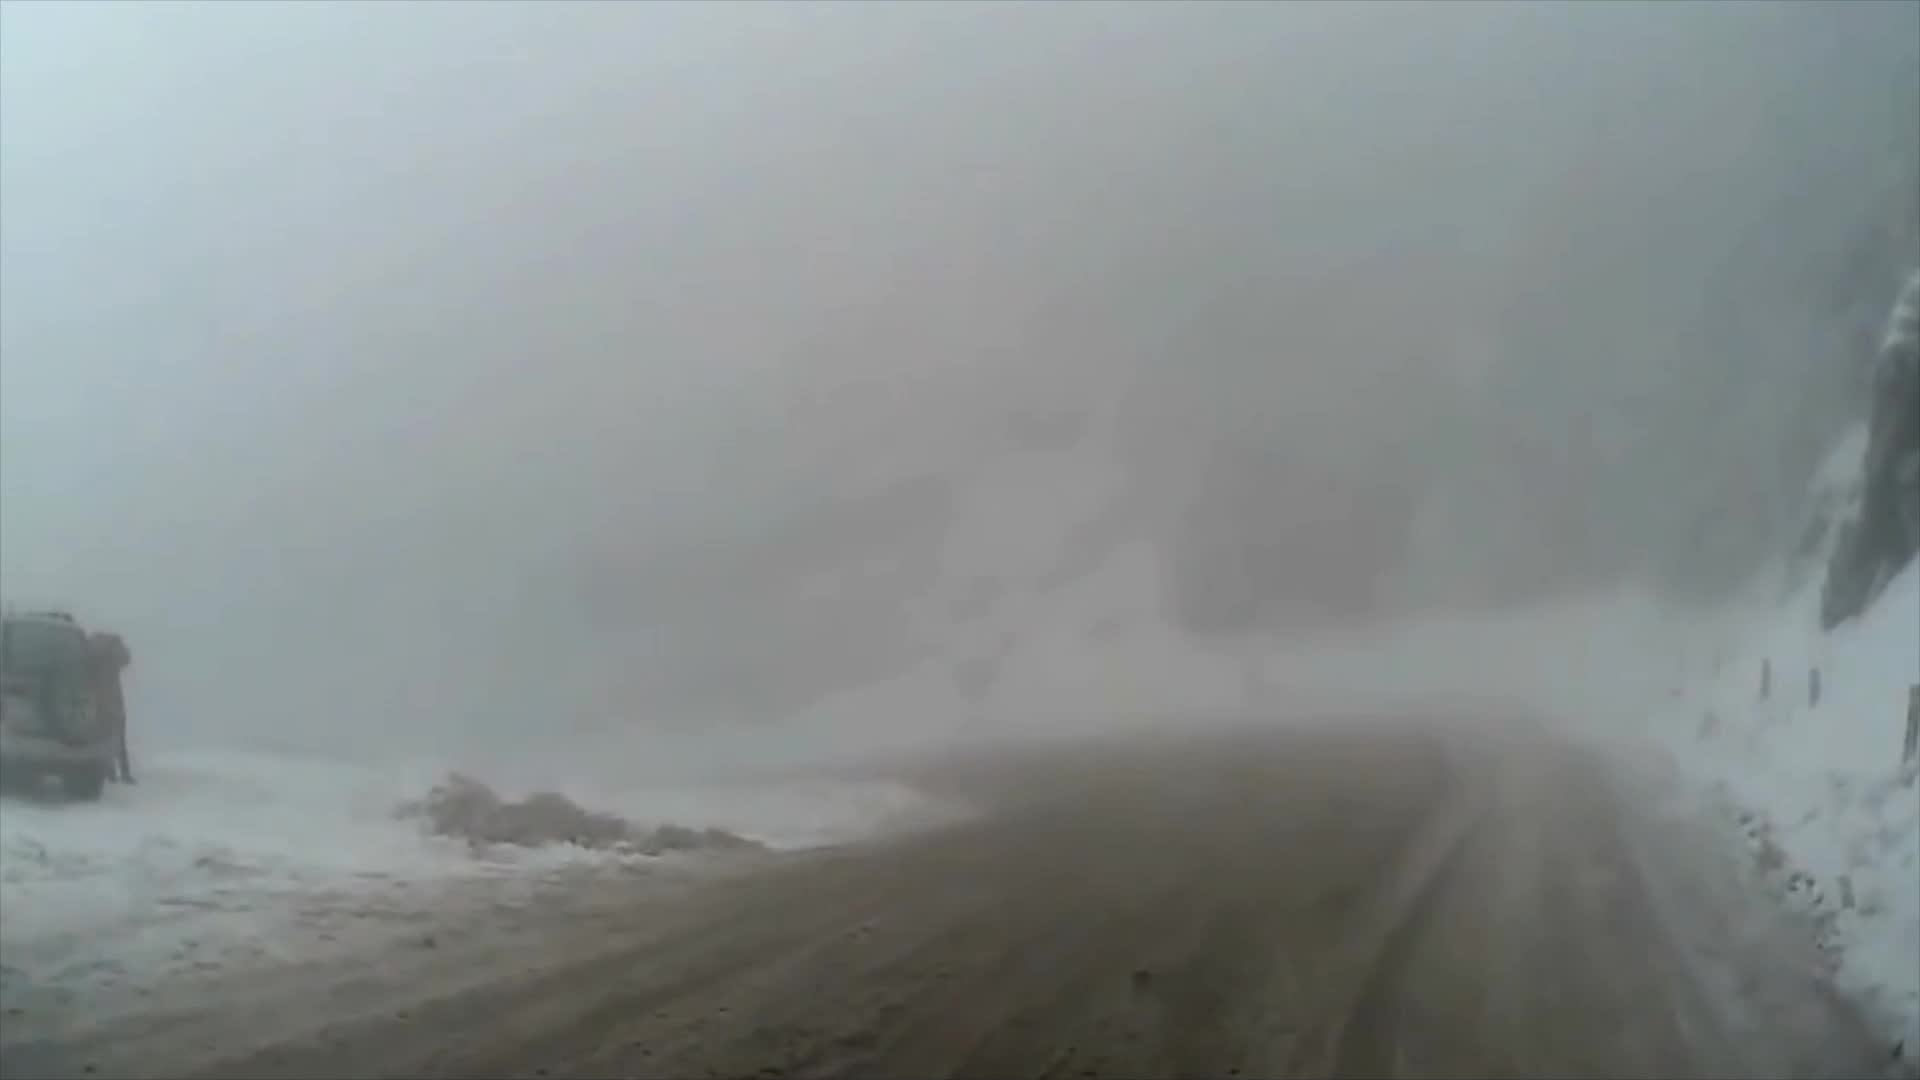vehicle: (0, 608, 116, 802)
